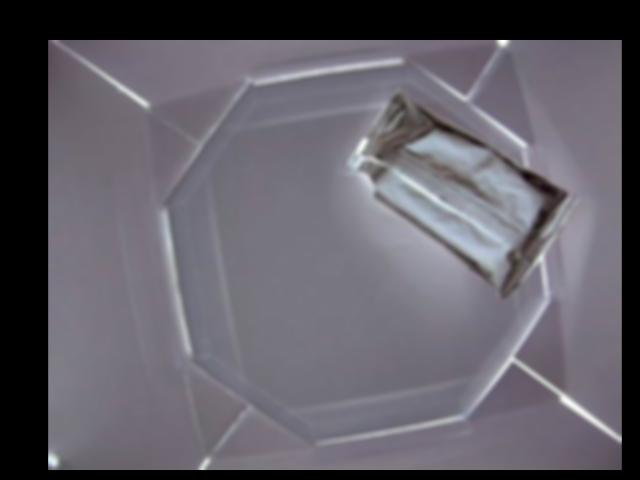Medicine: (344, 86, 576, 301)
